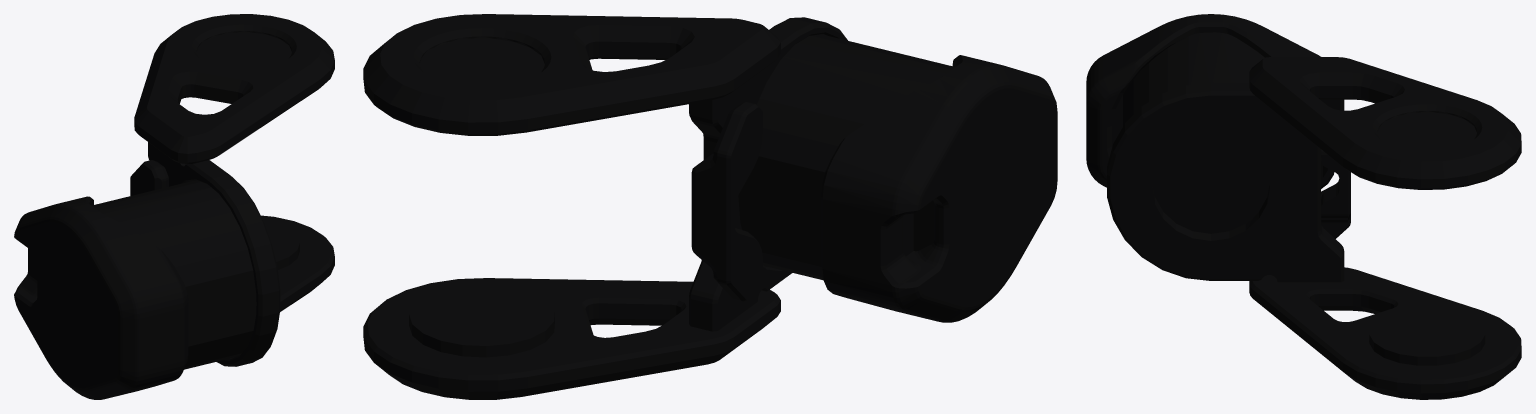
Rendered from link_4__black.glb.
3 renders of one model, left to right at view 1: azimuth 30°, elevation 25°; view 2: azimuth 150°, elevation 25°; view 3: azimuth 270°, elevation 25°, orthographic. The views are drawn at different scales.
Visible parts, largest first — view 1: link_4.STL; view 2: link_4.STL; view 3: link_4.STL.
Part boxes in pixels (<box>): link_4.STL: <box>14,14,334,399</box>; link_4.STL: <box>363,14,1057,399</box>; link_4.STL: <box>1086,14,1521,399</box>.
Bounding box in the file's own units: 0.1304 × 0.079 × 0.1308.
1 material, 1 textured.
